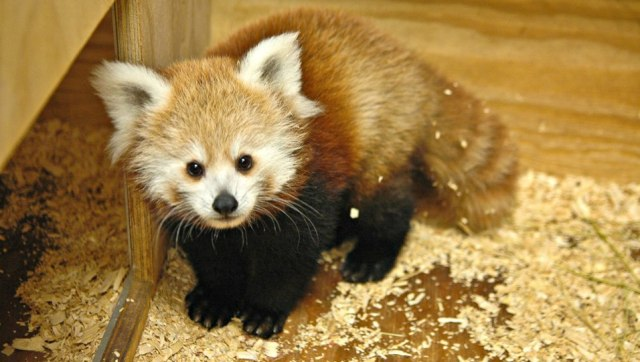red_panda: (92, 22, 512, 327)
